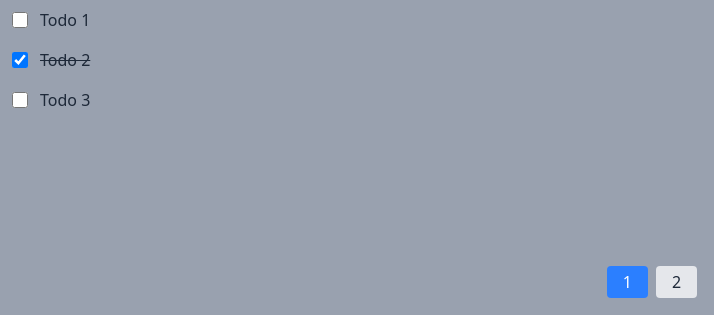
Scenario: TodoContainer › changes page when pagination button is clicked
Expected: the text "Todo 1" is shown, [40,8,90,32]
Expected: the text "Todo 3" is shown, [40,88,90,112]
Click page 2
Step 1. Click the button "2" → (677, 282), box [656,266,697,298]
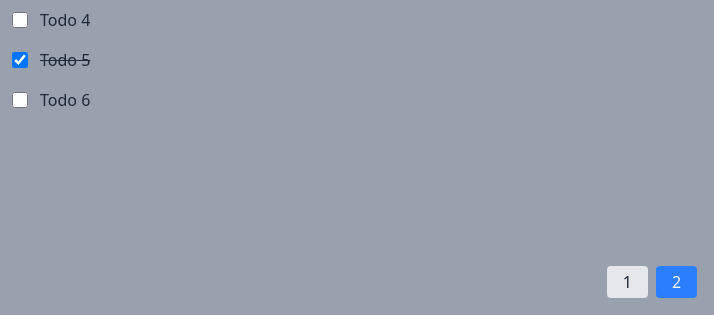
Result: the checkbox "Todo 1" is gone
Result: the text "Todo 4" is shown at [40,8,90,32]
Result: the text "Todo 6" is shown at [40,88,90,112]
